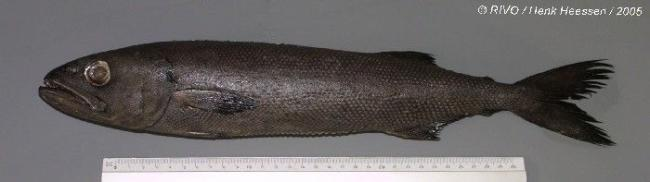fish: (38, 39, 618, 148)
